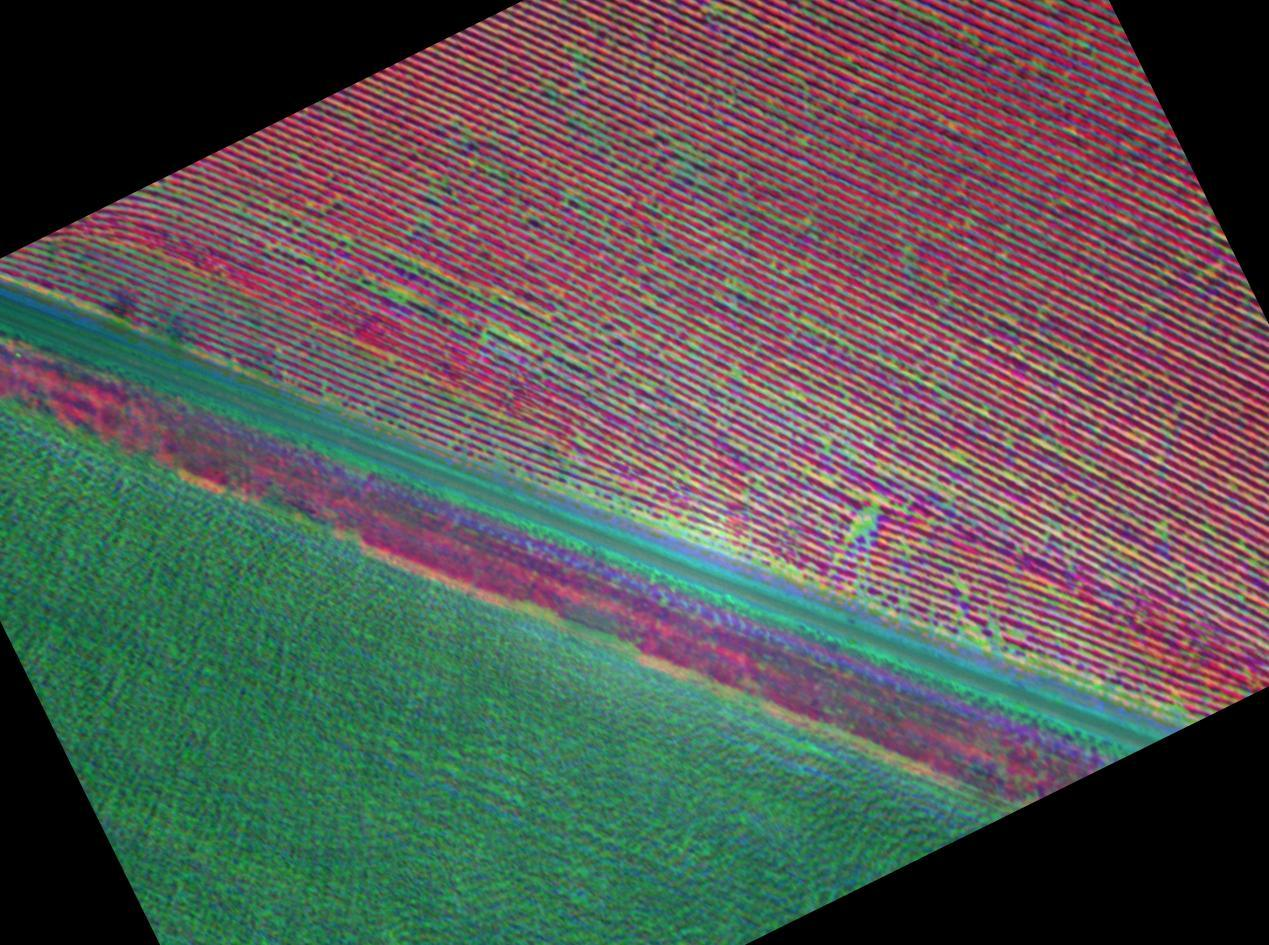dc: (856, 516, 872, 532), (387, 288, 404, 303), (951, 450, 965, 462), (1158, 523, 1167, 537)
